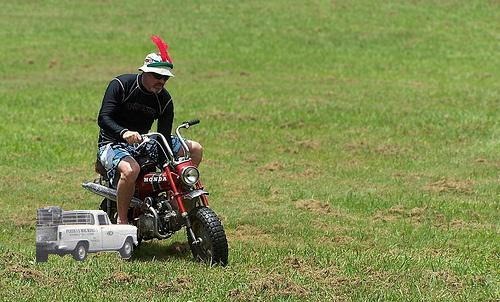tampered: (37, 207, 138, 262)
